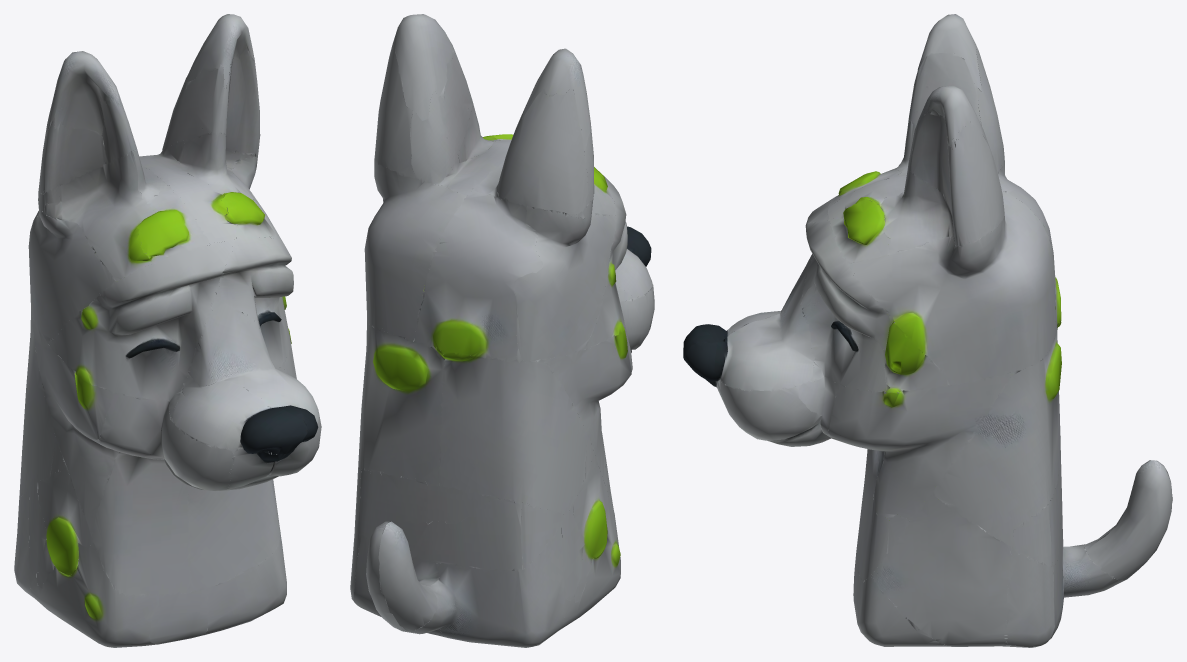
File: moai.glb
3 renders of one model, left to right at view 1: azimuth 30°, elevation 25°; view 2: azimuth 150°, elevation 25°; view 3: azimuth 270°, elevation 25°, orthographic. The views are drawn at different scales.
Visible parts, largest first — view 1: moai; view 2: moai; view 3: moai.
Part boxes in pixels (left/top/right/bottom): moai: left=14, top=14, right=321, bottom=647; moai: left=350, top=14, right=654, bottom=647; moai: left=683, top=14, right=1172, bottom=647.
Size of the model in its own units: 0.3967 by 1 by 0.7957.
Materials: 1 (1 with a texture image).
